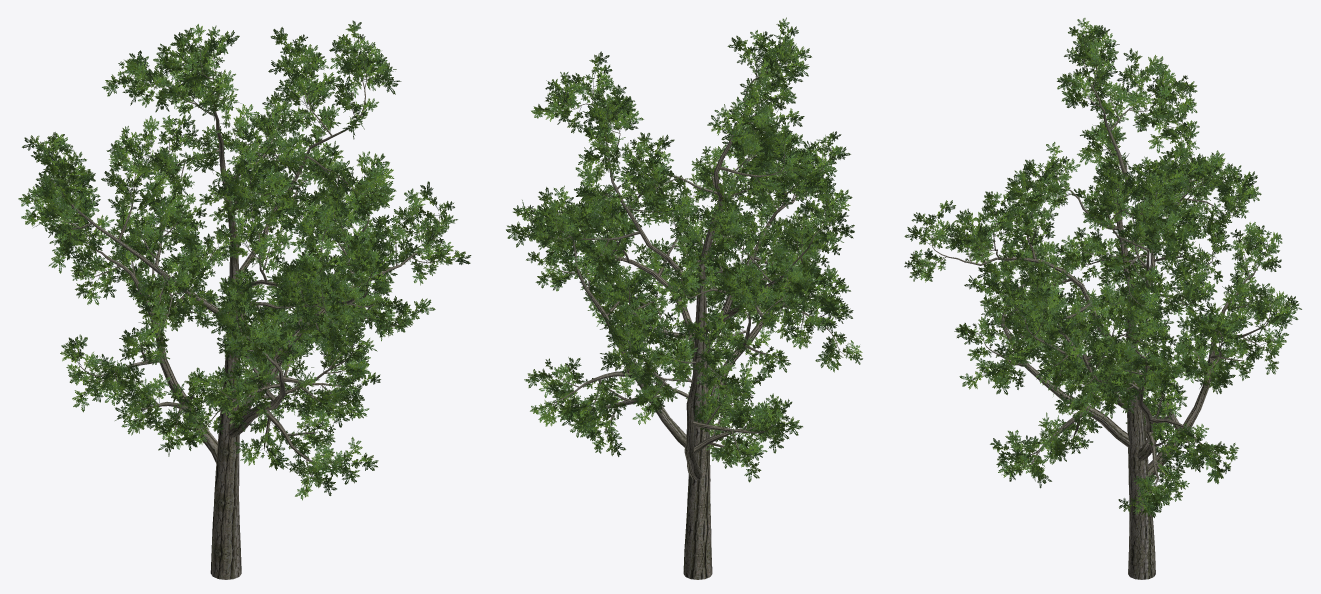
File: tree.glb
3 renders of one model, left to right at view 1: azimuth 30°, elevation 25°; view 2: azimuth 150°, elevation 25°; view 3: azimuth 270°, elevation 25°, orthographic. The views are drawn at different scales.
Visible parts, largest first — view 1: Tree; view 2: Tree; view 3: Tree.
Boxes of the visible parts, box(x1,y1,x2,y2) form: Tree: box(18, 20, 471, 579); Tree: box(506, 17, 862, 579); Tree: box(904, 18, 1301, 579).
Bounding box in the file's own units: 60.66 × 83.69 × 58.13.
2 materials, 2 textured.
